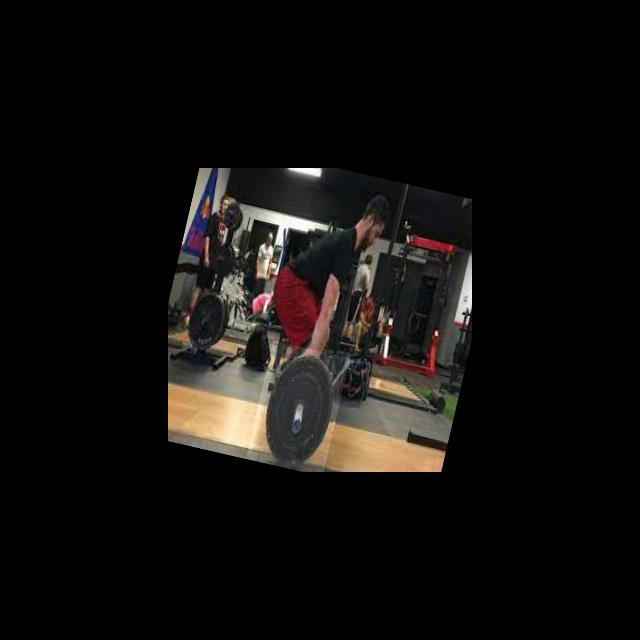barbell: (245, 340, 349, 472)
